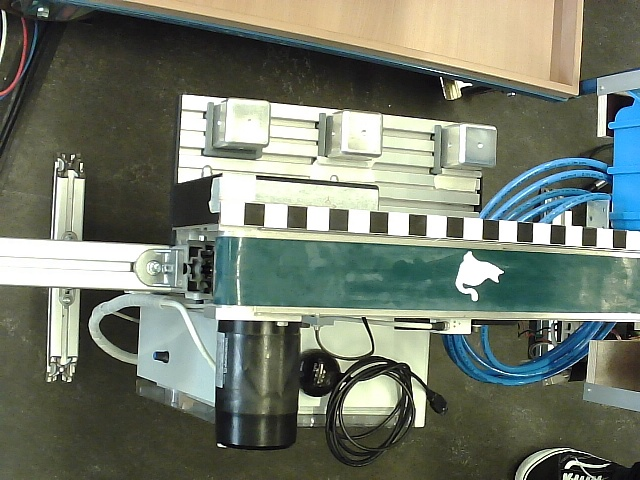cat: (455, 250, 505, 302)
